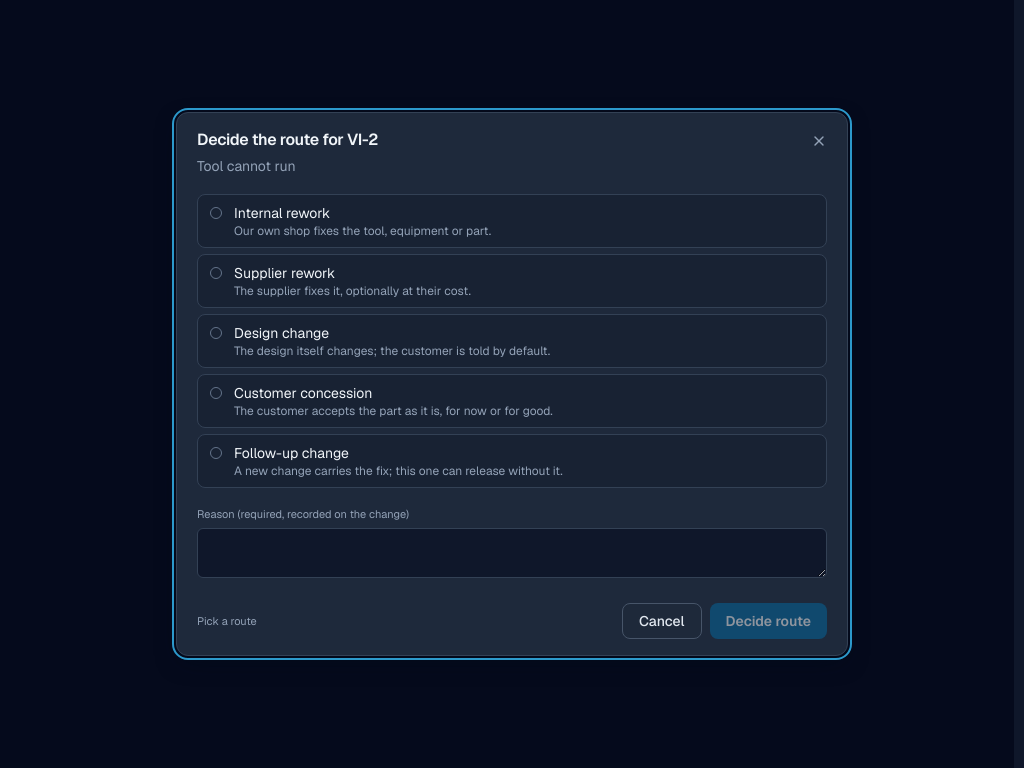
Test case: route dialog › supplier rework needs the supplier
Click the radio button with test id "route-option-supplier_rework" at {"x": 285, "y": 273}, box x1=197 y1=254 x2=827 y2=308
(page scrolled)
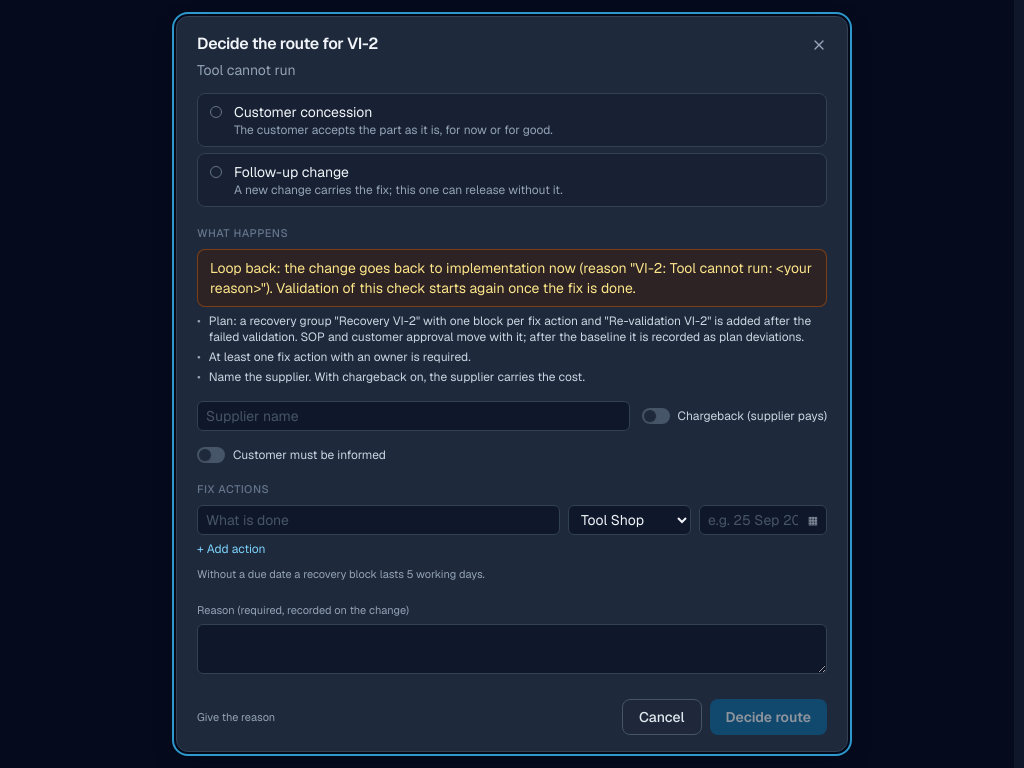
Type "r" into the text box with test id "route-reason" at {"x": 512, "y": 649}, box x1=197 y1=624 x2=827 y2=674
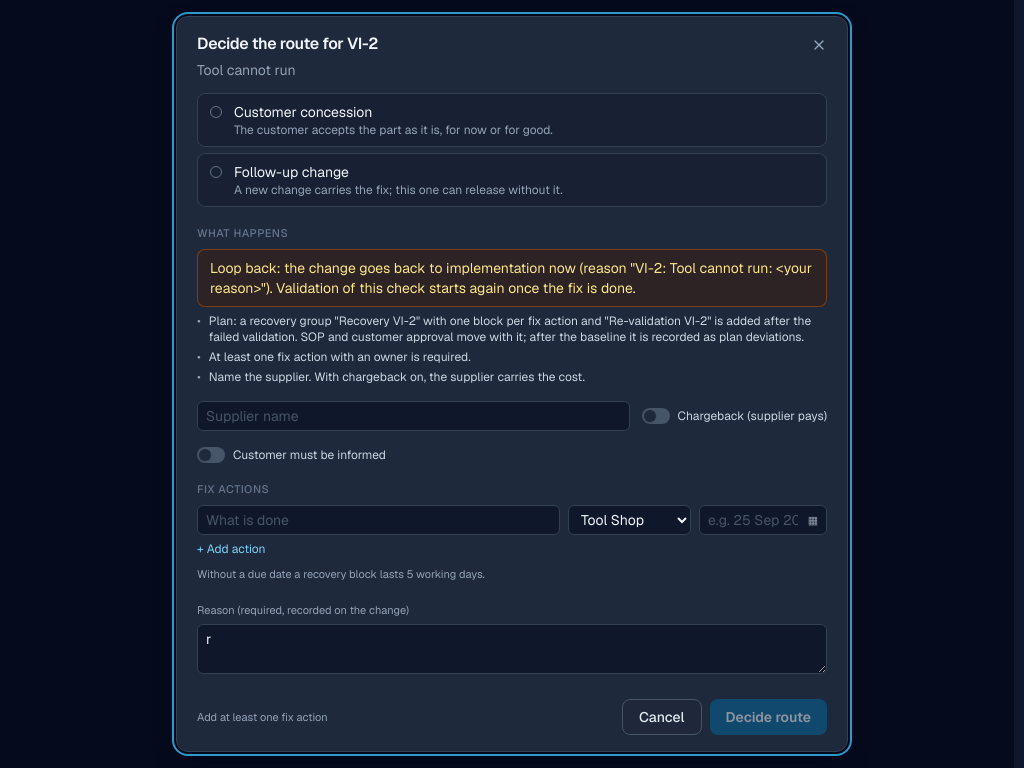
Type "a" into the field with test id "route-action-0" at {"x": 378, "y": 520}, box x1=197 y1=505 x2=560 y2=535
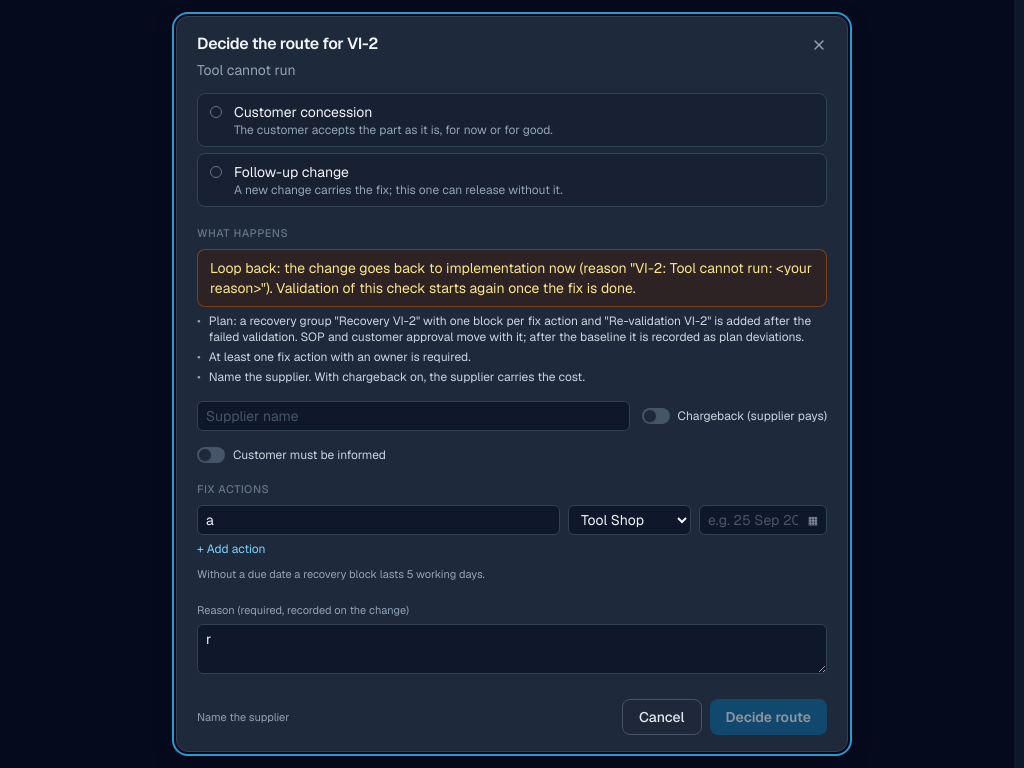
Result: the text with test id "route-missing" reads "Name the supplier" at x1=197 y1=710 x2=289 y2=724
